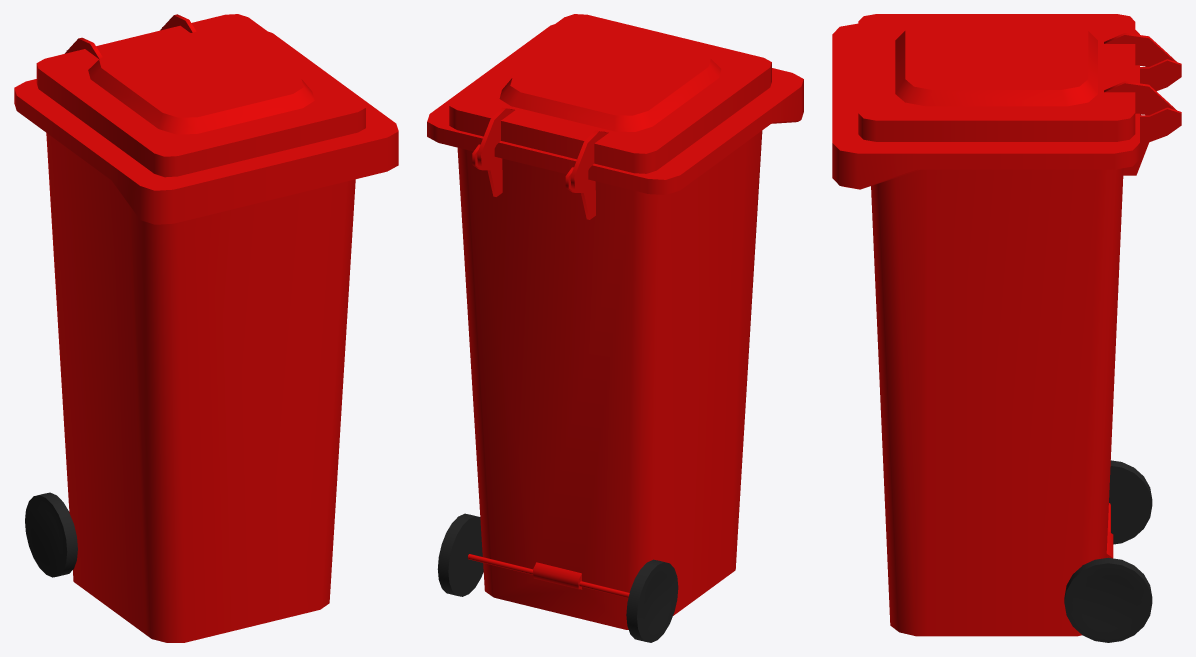
The model's file is trashbin1objeto.glb.
3 renders of one model, left to right at view 1: azimuth 30°, elevation 25°; view 2: azimuth 150°, elevation 25°; view 3: azimuth 270°, elevation 25°, orthographic. The views are drawn at different scales.
Visible parts, largest first — view 1: Trashbin; view 2: Trashbin; view 3: Trashbin.
Part boxes in pixels (x1,y1,x2,y2): Trashbin: (14,14,398,642); Trashbin: (427,14,803,642); Trashbin: (832,14,1181,642).
Size of the model in its own units: 0.643 by 1.24 by 0.7297.
